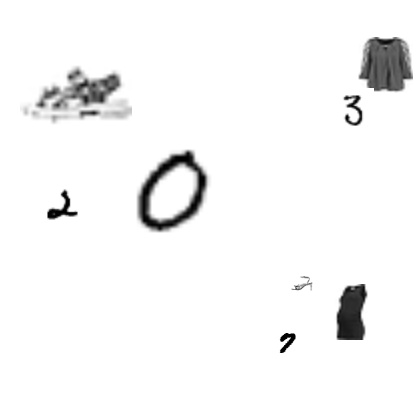0: (114, 135, 226, 247)
2: (40, 188, 82, 230)
3: (332, 88, 374, 130)
7: (273, 327, 301, 355)
Sandal: (20, 39, 132, 151), (291, 272, 313, 294)
Shirt: (357, 37, 413, 93)
T-shirt/top: (323, 284, 379, 340)
